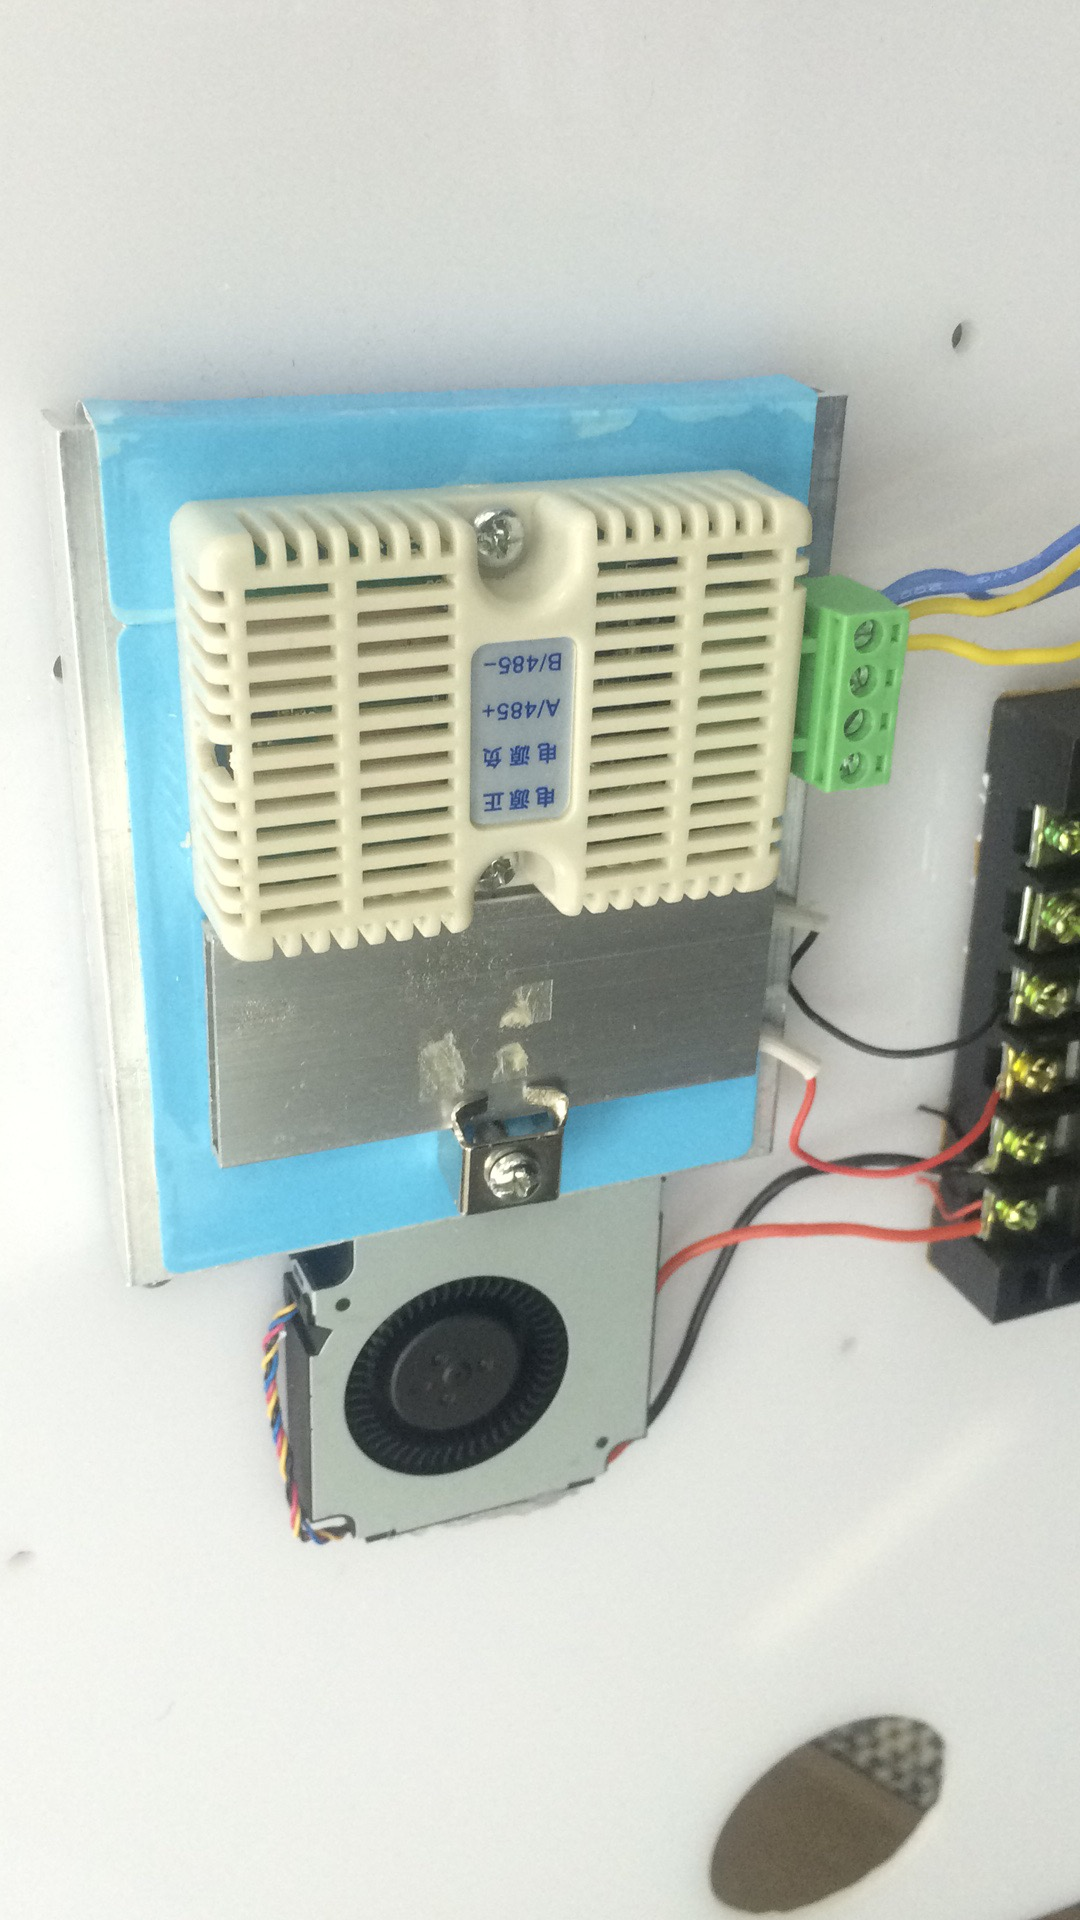fan: (284, 1254, 665, 1553)
heater: (195, 928, 769, 1170)
temperature: (164, 462, 818, 975)
